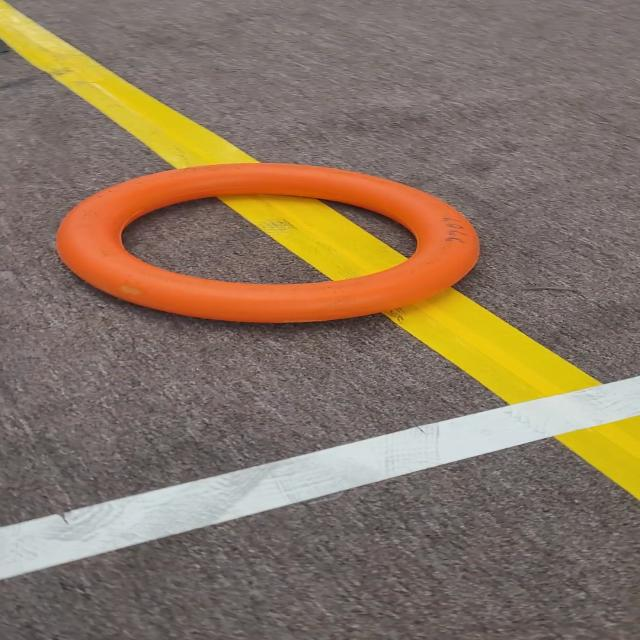note: (41, 152, 524, 349)
